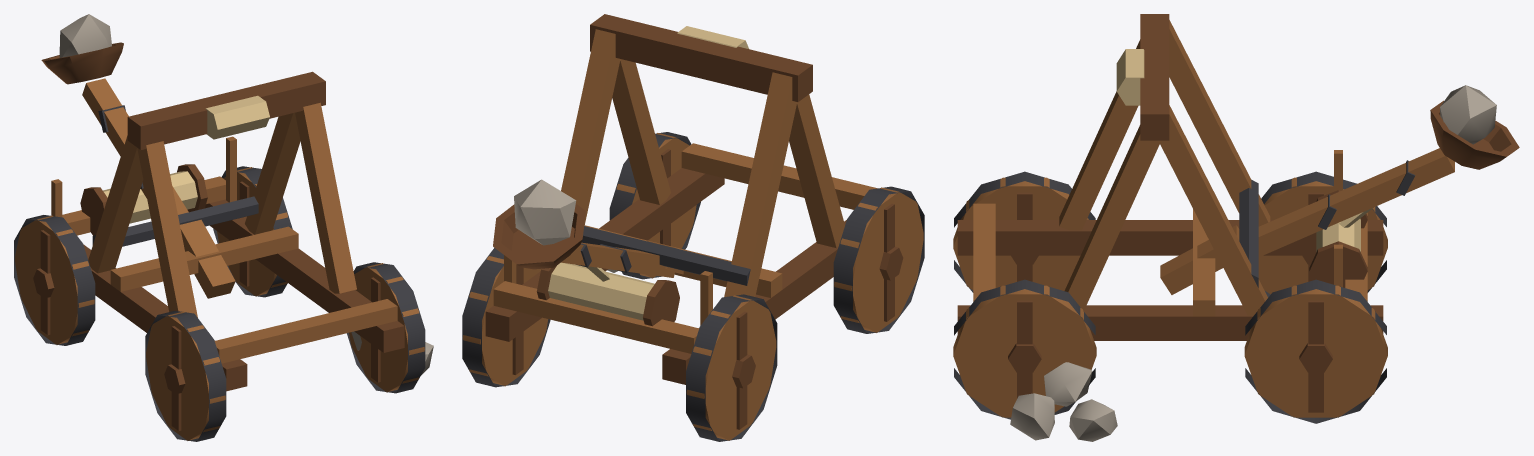
The model's file is catapult.glb.
The picture shows the model from 3 angles, left to right: view 1: azimuth 30°, elevation 25°; view 2: azimuth 150°, elevation 25°; view 3: azimuth 270°, elevation 25°; orthographic projection. The views are drawn at different scales.
Parts seen in each view (by area): view 1: catapult; view 2: catapult; view 3: catapult.
Part boxes in pixels (left/top/right/bottom): catapult: left=14, top=14, right=433, bottom=441; catapult: left=462, top=14, right=924, bottom=441; catapult: left=953, top=14, right=1519, bottom=441.
Bounding box in the file's own units: 1.56 × 1.51 × 2.53.
